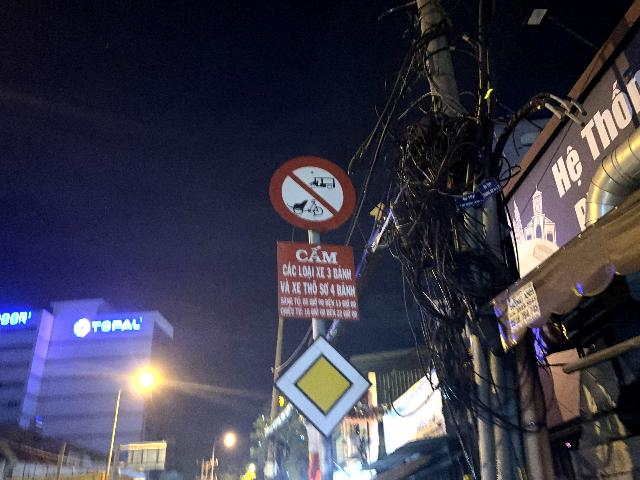bat-dau-duong-uu-tien: (273, 332, 373, 439)
cam-xe-3-banh-xe-tho-so-4-banh: (269, 156, 356, 231)
